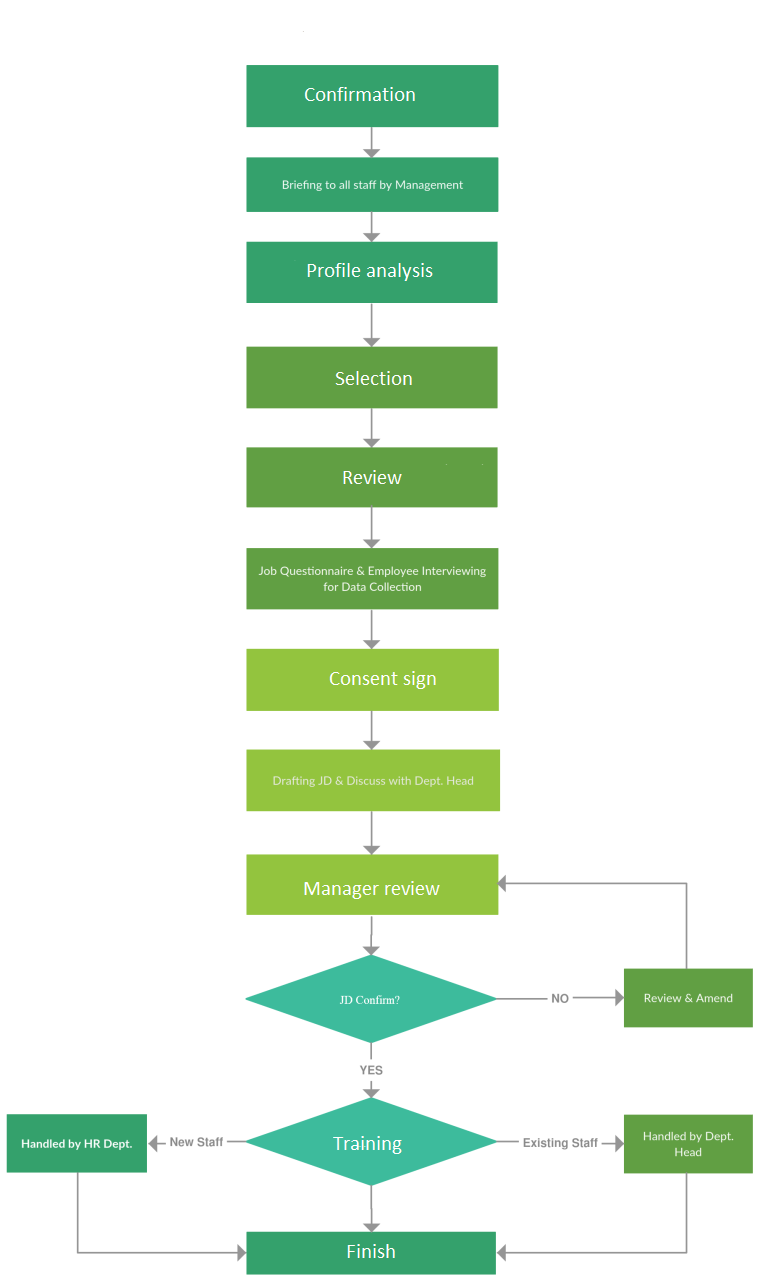arrow: (492, 868, 692, 970), (72, 1168, 253, 1261), (488, 1129, 633, 1153), (490, 984, 629, 1008), (143, 1135, 243, 1153), (357, 1041, 386, 1098), (355, 708, 384, 759), (359, 500, 386, 549), (363, 1174, 384, 1237), (357, 912, 386, 957), (359, 808, 384, 857), (361, 302, 388, 345), (357, 408, 382, 451), (361, 604, 382, 653), (361, 206, 382, 245), (363, 123, 384, 159)
decision: (239, 1094, 504, 1188), (239, 955, 500, 1043)
process: (239, 743, 504, 817), (241, 541, 504, 615), (239, 645, 508, 717), (241, 439, 506, 512), (239, 59, 504, 131), (237, 849, 506, 919), (239, 237, 502, 308), (241, 341, 502, 412), (241, 151, 502, 215), (241, 1223, 504, 1280), (1, 1108, 153, 1178), (619, 963, 759, 1033), (619, 1108, 757, 1176)
text: (253, 557, 494, 596), (265, 766, 482, 794), (276, 170, 470, 196), (298, 874, 449, 904), (296, 76, 421, 110), (637, 1125, 741, 1163), (304, 257, 439, 284), (325, 666, 445, 694), (16, 1133, 133, 1157), (329, 1127, 406, 1157), (331, 365, 419, 388), (643, 990, 737, 1010), (335, 988, 406, 1014), (341, 1233, 400, 1263), (516, 1133, 604, 1153), (165, 1129, 225, 1155), (337, 465, 408, 486), (541, 986, 578, 1010), (353, 1057, 390, 1078)
